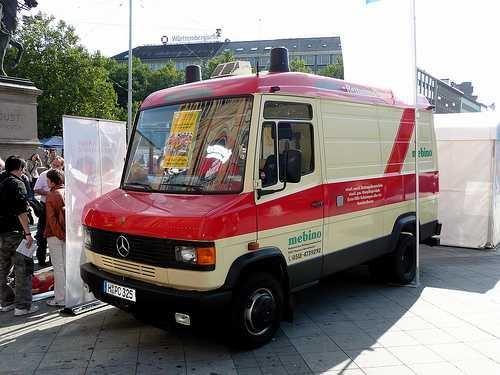car: (78, 46, 441, 348)
